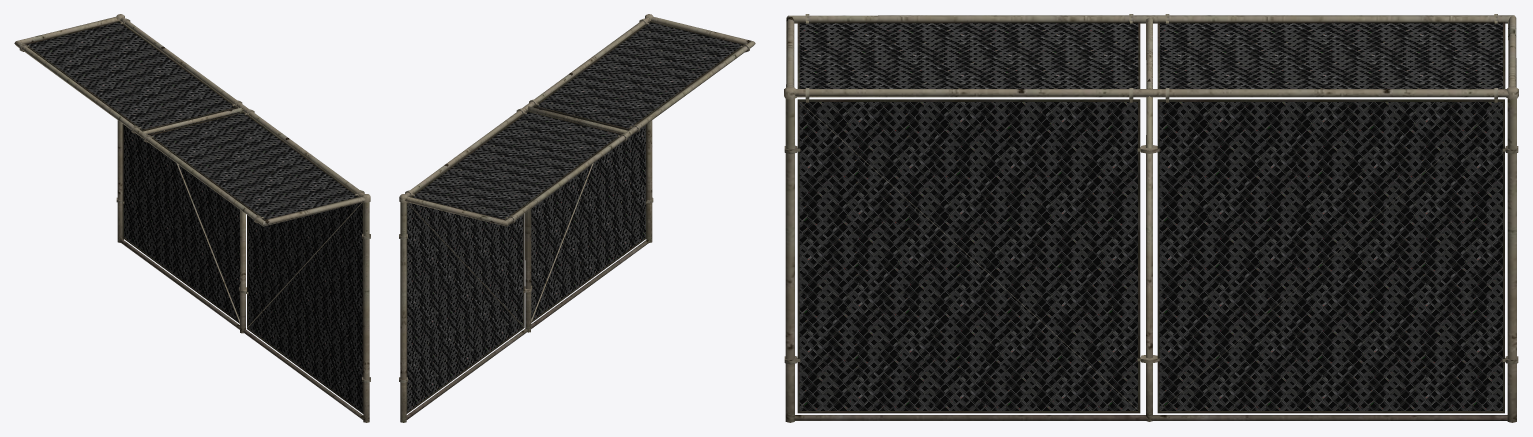
File: interior_fence001d.glb
3 views of the same model, side by side, from view 1: azimuth 30°, elevation 25°; view 2: azimuth 150°, elevation 25°; view 3: azimuth 270°, elevation 25° (orthographic). The views are drawn at different scales.
Visible parts, largest first — view 1: 1_fence_alpha, 0_prison_yard001; view 2: 1_fence_alpha, 0_prison_yard001; view 3: 1_fence_alpha, 0_prison_yard001.
Part boxes in pixels (x1,y1,x2,y2): 1_fence_alpha: (27, 22, 362, 411); 0_prison_yard001: (14, 14, 370, 422); 1_fence_alpha: (407, 22, 742, 411); 0_prison_yard001: (399, 14, 755, 422); 1_fence_alpha: (799, 23, 1502, 410); 0_prison_yard001: (784, 14, 1518, 422).
Size of the model in its own units: 1.67 by 3.27 by 6.54.
2 materials, 2 textured.
